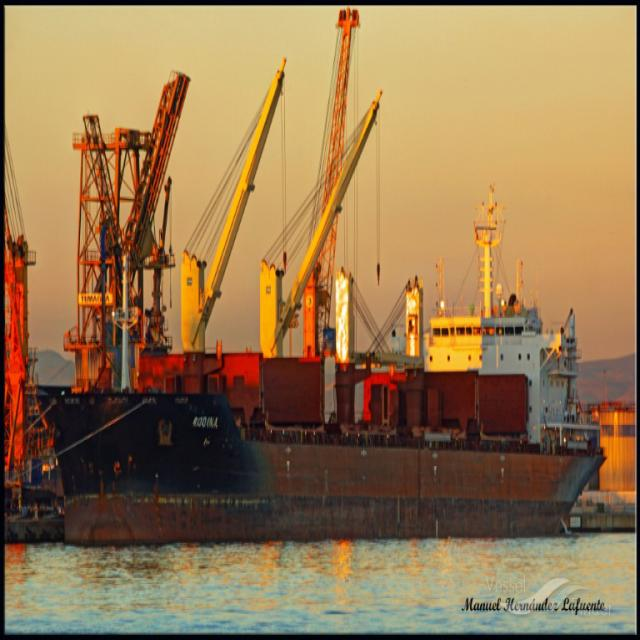OCR: (186, 407, 222, 438)
